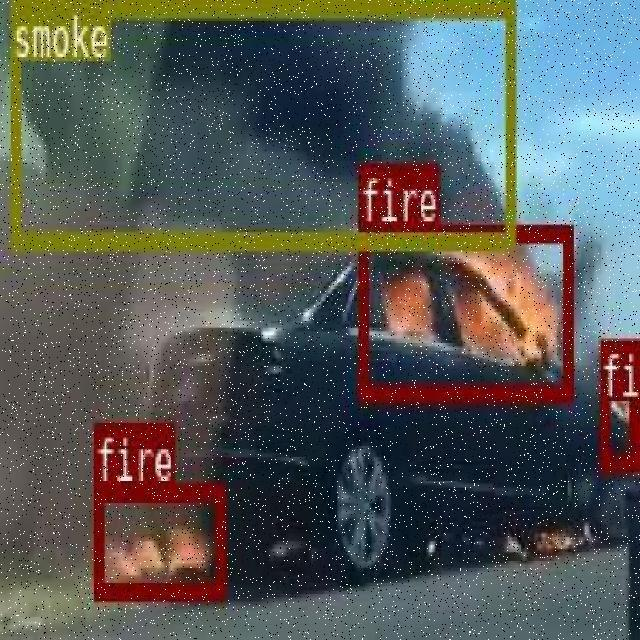Smoke: (10, 0, 512, 248)
